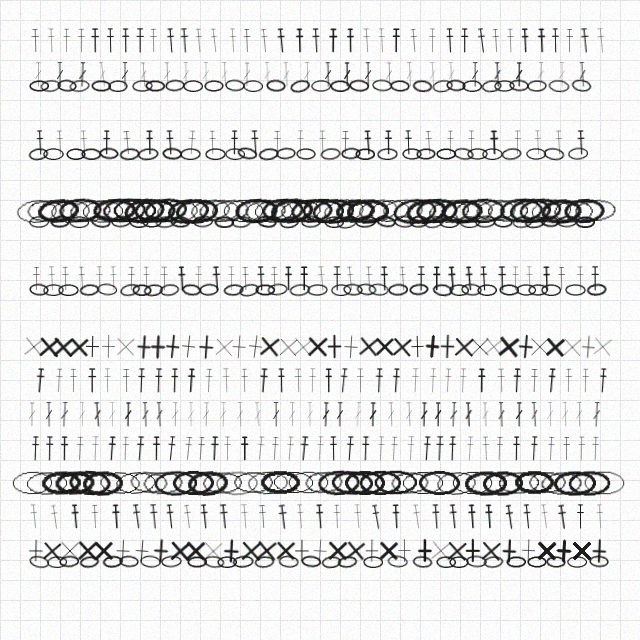chain: (122, 195, 167, 226), (321, 195, 366, 226), (392, 196, 438, 226), (367, 196, 412, 226), (404, 196, 449, 226), (426, 196, 471, 226), (166, 196, 210, 226), (451, 196, 495, 226), (143, 196, 188, 225), (269, 196, 314, 225), (508, 196, 553, 225), (518, 196, 563, 225), (188, 196, 232, 225), (356, 196, 400, 225), (529, 196, 573, 225), (174, 197, 219, 225), (209, 196, 252, 225), (15, 197, 59, 225), (36, 197, 80, 225), (68, 197, 112, 225), (155, 197, 199, 225), (279, 197, 323, 225), (311, 197, 355, 225), (114, 469, 158, 497), (186, 469, 230, 497), (461, 197, 506, 224), (49, 197, 92, 225), (290, 197, 333, 225), (334, 197, 377, 225), (440, 197, 483, 225), (540, 197, 583, 225), (435, 469, 478, 497), (58, 197, 102, 224), (92, 197, 136, 224), (102, 197, 146, 224), (197, 197, 241, 224), (234, 197, 278, 224), (243, 197, 287, 224), (499, 197, 543, 224), (573, 197, 617, 224), (261, 197, 304, 224), (381, 197, 424, 224), (415, 197, 458, 224), (474, 197, 517, 224), (563, 197, 606, 224), (68, 469, 111, 496), (141, 469, 184, 496), (246, 469, 289, 496), (317, 469, 360, 496), (133, 198, 177, 224), (98, 470, 142, 496), (215, 470, 259, 496), (539, 470, 583, 496), (128, 469, 170, 496), (303, 469, 345, 496), (81, 198, 124, 224), (346, 198, 389, 224), (486, 198, 529, 224), (25, 470, 68, 496), (154, 470, 197, 496), (464, 470, 507, 496), (497, 470, 540, 496), (553, 470, 596, 496), (568, 470, 611, 496), (25, 198, 67, 224), (253, 198, 295, 224), (552, 198, 594, 224), (54, 470, 96, 496), (82, 470, 124, 496), (201, 470, 243, 496), (331, 470, 373, 496), (389, 470, 431, 496), (482, 470, 524, 496), (113, 198, 156, 223), (272, 470, 315, 495), (374, 470, 417, 495), (401, 470, 444, 495), (418, 470, 461, 495), (451, 470, 494, 495), (41, 470, 82, 496), (222, 198, 264, 223), (302, 198, 344, 223), (11, 470, 53, 495), (172, 470, 214, 495), (232, 470, 274, 495), (287, 470, 329, 495), (344, 470, 386, 495), (359, 470, 401, 495), (583, 470, 625, 495), (260, 470, 301, 495), (514, 470, 555, 495), (527, 470, 568, 495), (336, 214, 359, 230), (289, 78, 311, 94), (423, 214, 445, 230), (119, 282, 141, 298), (238, 282, 260, 298), (28, 554, 50, 570), (236, 146, 258, 161), (571, 78, 592, 93), (90, 214, 111, 229), (256, 214, 277, 229), (375, 214, 396, 229), (548, 79, 570, 93), (137, 147, 159, 161), (543, 147, 565, 161), (155, 215, 177, 229), (524, 215, 546, 229), (289, 283, 311, 297), (203, 555, 225, 569), (40, 79, 61, 93), (69, 79, 90, 93), (412, 79, 433, 93), (432, 79, 453, 93), (481, 79, 502, 93), (28, 147, 49, 161), (119, 147, 140, 161), (258, 147, 279, 161), (320, 147, 341, 161), (453, 147, 474, 161), (501, 147, 522, 161), (231, 215, 252, 229), (279, 215, 300, 229), (512, 215, 533, 229), (79, 283, 100, 297), (143, 283, 164, 297), (159, 283, 180, 297), (181, 283, 202, 297), (223, 283, 244, 297), (432, 283, 453, 297), (79, 555, 100, 569), (254, 555, 275, 569), (321, 555, 342, 569), (337, 555, 358, 569), (412, 555, 433, 569), (483, 555, 504, 569), (232, 555, 254, 568), (355, 215, 376, 228), (475, 215, 496, 228), (557, 215, 578, 228), (267, 283, 288, 296), (356, 283, 377, 296), (368, 283, 389, 296), (461, 283, 482, 296), (586, 283, 607, 296), (102, 555, 123, 568), (140, 555, 161, 568), (161, 555, 182, 568), (278, 555, 299, 568), (387, 555, 408, 568), (466, 555, 487, 568), (57, 79, 77, 92), (165, 79, 185, 92), (225, 79, 245, 92), (266, 79, 286, 92), (349, 79, 369, 92), (372, 79, 392, 92), (446, 79, 466, 92), (509, 79, 529, 92), (99, 147, 119, 160), (162, 147, 182, 160), (276, 147, 296, 160), (341, 147, 361, 160), (568, 147, 588, 160), (50, 215, 70, 228), (111, 215, 131, 228), (193, 215, 213, 228), (301, 215, 321, 228), (394, 215, 414, 228), (409, 215, 429, 228), (540, 215, 560, 228), (29, 283, 49, 296), (97, 283, 117, 296), (199, 283, 219, 296), (343, 283, 363, 296), (388, 283, 408, 296), (409, 283, 429, 296), (59, 555, 79, 568), (119, 555, 139, 568), (301, 555, 321, 568), (589, 555, 609, 568), (132, 80, 153, 92), (494, 80, 515, 92), (43, 148, 64, 160), (180, 148, 201, 160), (205, 148, 226, 160), (377, 148, 398, 160), (467, 148, 488, 160), (482, 148, 503, 160), (439, 216, 460, 228), (459, 216, 480, 228), (43, 284, 64, 296), (58, 284, 79, 296), (307, 284, 328, 296), (565, 284, 586, 296), (29, 80, 49, 92), (91, 80, 111, 92), (108, 80, 128, 92), (145, 80, 165, 92), (183, 80, 203, 92), (204, 80, 224, 92), (243, 80, 263, 92), (311, 80, 331, 92), (330, 80, 350, 92), (390, 80, 410, 92), (462, 80, 482, 92), (527, 80, 547, 92), (66, 148, 86, 160), (81, 148, 101, 160), (225, 148, 245, 160), (296, 148, 316, 160), (355, 148, 375, 160), (402, 148, 422, 160), (416, 148, 436, 160), (436, 148, 456, 160), (526, 148, 546, 160), (29, 216, 49, 228), (69, 216, 89, 228), (129, 216, 149, 228), (142, 216, 162, 228), (170, 216, 190, 228), (214, 216, 234, 228), (324, 216, 344, 228), (493, 216, 513, 228), (575, 216, 595, 228), (132, 284, 152, 296), (255, 284, 275, 296), (331, 284, 351, 296), (449, 284, 469, 296), (477, 284, 497, 296), (499, 284, 519, 296), (516, 284, 536, 296), (528, 284, 548, 296), (541, 284, 561, 296), (47, 556, 67, 568), (187, 556, 207, 568), (217, 556, 237, 568), (363, 556, 383, 568), (436, 556, 456, 568), (449, 556, 469, 568), (506, 556, 526, 568), (527, 556, 547, 568), (546, 556, 566, 568), (567, 556, 587, 568)
double: (97, 62, 108, 87), (253, 402, 263, 427), (353, 402, 363, 427), (78, 62, 87, 87), (139, 62, 148, 87), (220, 62, 229, 87), (263, 62, 272, 87), (282, 62, 291, 87), (405, 62, 414, 87), (428, 62, 437, 87), (447, 62, 456, 87), (493, 62, 502, 87), (536, 62, 545, 87), (578, 62, 587, 87), (60, 402, 69, 427), (93, 402, 102, 427), (141, 402, 150, 427), (155, 402, 164, 427), (449, 402, 458, 427), (464, 402, 473, 427), (481, 402, 490, 427), (497, 402, 506, 427), (530, 402, 539, 427), (592, 402, 601, 427), (34, 62, 42, 87), (56, 62, 64, 87), (121, 62, 129, 87), (163, 62, 171, 87), (182, 62, 190, 87), (202, 62, 210, 87), (243, 62, 251, 87), (303, 62, 311, 87), (324, 62, 332, 87), (343, 62, 351, 87), (364, 62, 372, 87), (385, 62, 393, 87), (471, 62, 479, 87), (515, 62, 523, 87), (558, 62, 566, 87), (28, 402, 36, 427), (45, 402, 53, 427), (78, 402, 86, 427), (108, 402, 116, 427), (124, 402, 132, 427), (171, 402, 179, 427), (187, 402, 195, 427), (202, 402, 210, 427), (219, 402, 227, 427), (236, 402, 244, 427), (272, 402, 280, 427), (288, 402, 296, 427), (306, 402, 314, 427), (322, 402, 330, 427), (336, 402, 344, 427), (369, 402, 377, 427), (387, 402, 395, 427), (405, 402, 413, 427), (420, 402, 428, 427), (434, 402, 442, 427), (515, 402, 523, 427), (546, 402, 554, 427), (561, 402, 569, 427), (575, 402, 583, 427)
half_double: (370, 504, 383, 530), (556, 504, 569, 530), (49, 504, 61, 530), (277, 504, 289, 530), (504, 504, 516, 530), (476, 28, 488, 53), (579, 28, 591, 53), (595, 28, 607, 53), (121, 130, 133, 155), (34, 368, 46, 393), (182, 436, 194, 461), (298, 436, 310, 461), (28, 504, 40, 529), (131, 504, 143, 529), (148, 504, 160, 529), (182, 504, 194, 529), (218, 504, 230, 529), (411, 504, 423, 529), (539, 504, 551, 529), (179, 28, 190, 53), (209, 28, 220, 53), (259, 28, 270, 53), (276, 28, 287, 53), (361, 28, 372, 53), (186, 130, 197, 155), (211, 266, 222, 291), (316, 266, 327, 291), (345, 266, 356, 291), (464, 266, 475, 291), (203, 368, 214, 393), (258, 368, 269, 393), (338, 368, 349, 393), (546, 368, 557, 393), (74, 436, 85, 461), (166, 436, 177, 461), (209, 436, 220, 461), (255, 436, 266, 461), (405, 436, 416, 461), (434, 436, 445, 461), (70, 504, 81, 529), (165, 504, 176, 529), (199, 504, 210, 529), (239, 504, 250, 529), (257, 504, 268, 529), (295, 504, 306, 529), (448, 504, 459, 529), (522, 504, 533, 529), (30, 28, 40, 53), (76, 28, 86, 53), (90, 28, 100, 53), (135, 28, 145, 53), (166, 28, 176, 53), (194, 28, 204, 53), (228, 28, 238, 53), (242, 28, 252, 53), (311, 28, 321, 53), (328, 28, 338, 53), (377, 28, 387, 53), (391, 28, 401, 53), (409, 28, 419, 53), (427, 28, 437, 53), (445, 28, 455, 53), (491, 28, 501, 53), (520, 28, 530, 53), (35, 130, 45, 155), (55, 130, 65, 155), (79, 130, 89, 155), (165, 130, 175, 155), (250, 130, 260, 155), (340, 130, 350, 155), (363, 130, 373, 155), (424, 130, 434, 155), (489, 130, 499, 155), (533, 130, 543, 155), (554, 130, 564, 155), (576, 130, 586, 155), (47, 266, 57, 291), (77, 266, 87, 291), (126, 266, 136, 291), (159, 266, 169, 291), (177, 266, 187, 291), (256, 266, 266, 291), (299, 266, 309, 291), (332, 266, 342, 291), (364, 266, 374, 291), (398, 266, 408, 291), (416, 266, 426, 291), (447, 266, 457, 291), (479, 266, 489, 291), (497, 266, 507, 291), (575, 266, 585, 291), (590, 266, 600, 291), (54, 368, 64, 393), (87, 368, 97, 393), (121, 368, 131, 393), (186, 368, 196, 393), (221, 368, 231, 393), (293, 368, 303, 393), (355, 368, 365, 393), (374, 368, 384, 393), (391, 368, 401, 393), (410, 368, 420, 393), (428, 368, 438, 393), (443, 368, 453, 393), (458, 368, 468, 393), (496, 368, 506, 393), (512, 368, 522, 393), (529, 368, 539, 393), (598, 368, 608, 393), (90, 436, 100, 461), (107, 436, 117, 461), (135, 436, 145, 461), (196, 436, 206, 461), (270, 436, 280, 461), (285, 436, 295, 461), (315, 436, 325, 461), (345, 436, 355, 461), (376, 436, 386, 461), (389, 436, 399, 461), (422, 436, 432, 461), (465, 436, 475, 461), (481, 436, 491, 461), (529, 436, 539, 461), (546, 436, 556, 461), (90, 504, 100, 529), (111, 504, 121, 529), (315, 504, 325, 529), (332, 504, 342, 529), (353, 504, 363, 529), (391, 504, 401, 529), (431, 504, 441, 529), (467, 504, 477, 529), (484, 504, 494, 529), (595, 504, 605, 529), (47, 28, 56, 53), (62, 28, 71, 53), (106, 28, 115, 53), (121, 28, 130, 53), (149, 28, 158, 53), (295, 28, 304, 53), (346, 28, 355, 53), (460, 28, 469, 53), (506, 28, 515, 53), (537, 28, 546, 53), (551, 28, 560, 53), (565, 28, 574, 53), (102, 130, 111, 155), (145, 130, 154, 155), (208, 130, 217, 155), (230, 130, 239, 155), (273, 130, 282, 155), (296, 130, 305, 155), (318, 130, 327, 155), (384, 130, 393, 155), (404, 130, 413, 155), (446, 130, 455, 155), (467, 130, 476, 155), (513, 130, 522, 155), (32, 266, 41, 291), (61, 266, 70, 291), (95, 266, 104, 291), (109, 266, 118, 291), (142, 266, 151, 291), (194, 266, 203, 291), (227, 266, 236, 291), (241, 266, 250, 291), (270, 266, 279, 291), (284, 266, 293, 291), (380, 266, 389, 291), (432, 266, 441, 291), (511, 266, 520, 291), (525, 266, 534, 291), (542, 266, 551, 291), (557, 266, 566, 291), (69, 368, 78, 393), (103, 368, 112, 393), (137, 368, 146, 393), (154, 368, 163, 393), (170, 368, 179, 393), (240, 368, 249, 393), (277, 368, 286, 393), (308, 368, 317, 393), (324, 368, 333, 393), (477, 368, 486, 393), (564, 368, 573, 393), (581, 368, 590, 393), (31, 436, 40, 461), (45, 436, 54, 461), (60, 436, 69, 461), (121, 436, 130, 461), (152, 436, 161, 461), (223, 436, 232, 461), (240, 436, 249, 461), (329, 436, 338, 461), (361, 436, 370, 461), (448, 436, 457, 461), (495, 436, 504, 461), (512, 436, 521, 461), (562, 436, 571, 461), (577, 436, 586, 461), (591, 436, 600, 461), (576, 504, 585, 529)
single: (20, 333, 47, 360), (159, 333, 186, 360), (175, 333, 202, 360), (242, 333, 269, 360), (256, 333, 283, 360), (355, 333, 382, 360), (419, 333, 446, 360), (480, 333, 507, 360), (495, 333, 522, 360), (512, 333, 539, 360), (589, 333, 616, 360), (253, 537, 280, 564), (342, 537, 369, 564), (427, 537, 454, 564), (36, 334, 62, 360), (50, 334, 76, 360), (66, 334, 92, 360), (131, 334, 157, 360), (145, 334, 171, 360), (193, 334, 219, 360), (211, 334, 237, 360), (226, 334, 252, 360), (275, 334, 301, 360), (290, 334, 316, 360), (338, 334, 364, 360), (389, 334, 415, 360), (451, 334, 477, 360), (542, 334, 568, 360), (559, 334, 585, 360), (575, 334, 601, 360), (39, 538, 65, 564), (110, 538, 136, 564), (129, 538, 155, 564), (148, 538, 174, 564), (167, 538, 193, 564), (200, 538, 226, 564), (218, 538, 244, 564), (238, 538, 264, 564), (307, 538, 333, 564), (444, 538, 470, 564), (478, 538, 504, 564), (496, 538, 522, 564), (551, 538, 577, 564), (586, 538, 612, 564), (80, 334, 105, 359), (96, 334, 121, 359), (113, 334, 138, 359), (305, 334, 330, 359), (322, 334, 347, 359), (372, 334, 397, 359), (405, 334, 430, 359), (435, 334, 460, 359), (467, 334, 492, 359), (527, 334, 552, 359), (23, 538, 48, 563), (57, 538, 82, 563), (75, 538, 100, 563), (91, 538, 116, 563), (183, 538, 208, 563), (273, 538, 298, 563), (289, 538, 314, 563), (325, 538, 350, 563), (359, 538, 384, 563), (376, 538, 401, 563), (392, 538, 417, 563), (412, 538, 437, 563), (460, 538, 485, 563), (516, 538, 541, 563), (534, 538, 559, 563), (569, 538, 594, 563)
